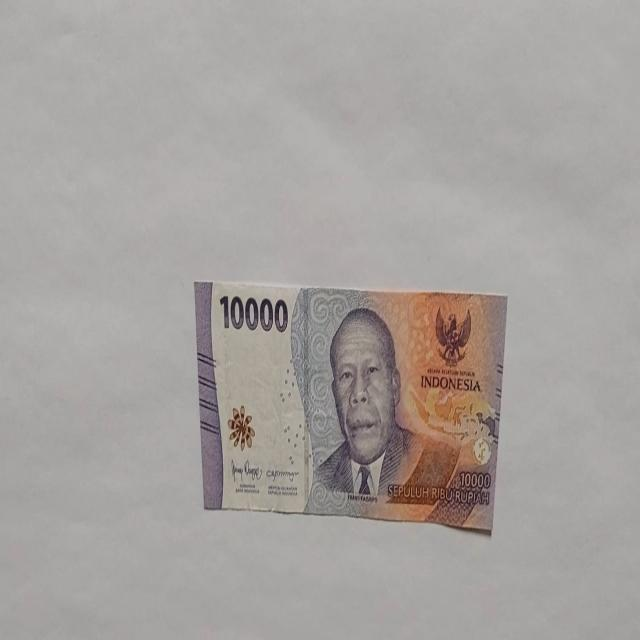sepuluh ribu rupiah: (194, 278, 508, 532), (302, 304, 462, 518)
